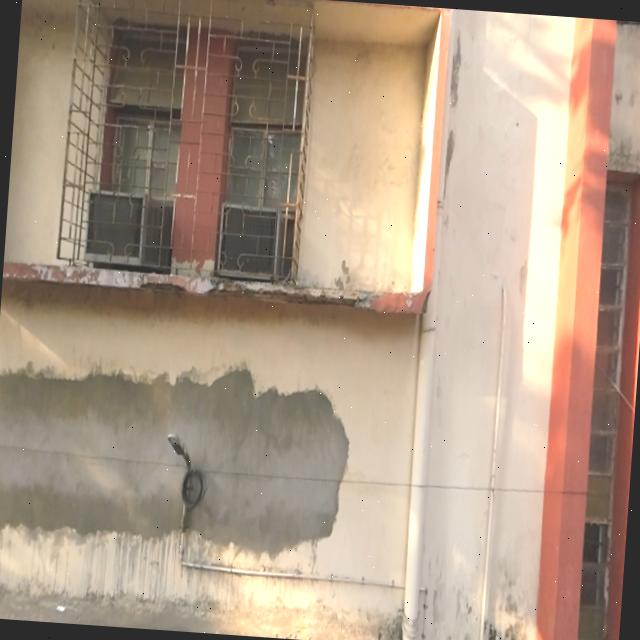spalling: (0, 369, 348, 556)
